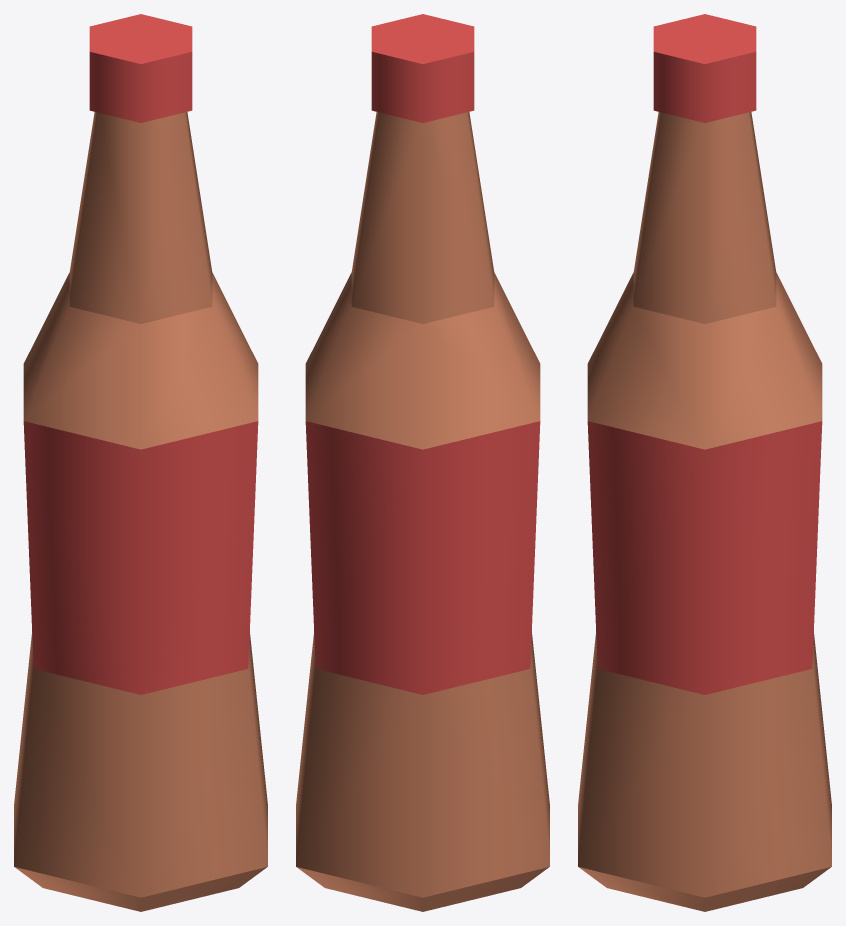
File: sodaBottle.obj
3 views of the same model, side by side, from view 1: azimuth 30°, elevation 25°; view 2: azimuth 150°, elevation 25°; view 3: azimuth 270°, elevation 25° (orthographic).
Parts seen in each view (by area): view 1: sodaBottle; view 2: sodaBottle; view 3: sodaBottle.
Part boxes in pixels (box(x1,y1,x2,y2)): sodaBottle: box(14, 14, 267, 911); sodaBottle: box(296, 14, 549, 911); sodaBottle: box(578, 14, 831, 911).
Size of the model in its own units: 0.1805 by 0.5604 by 0.1563.
